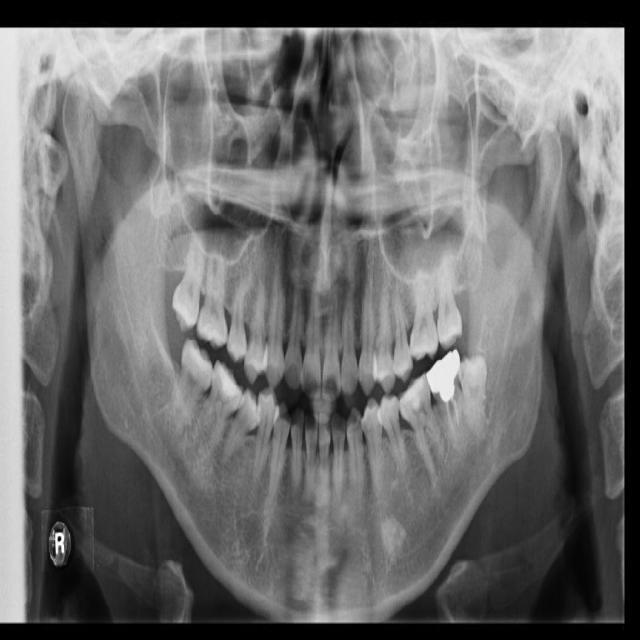73: (602, 566, 606, 572)
BioHorizons Implant: (437, 247, 462, 349)
Biomet 3i Implant: (455, 353, 488, 439)
Blue Sky Bio Implant: (424, 348, 468, 453)
Caries: (168, 226, 210, 335)
Implant: (166, 338, 220, 437)
